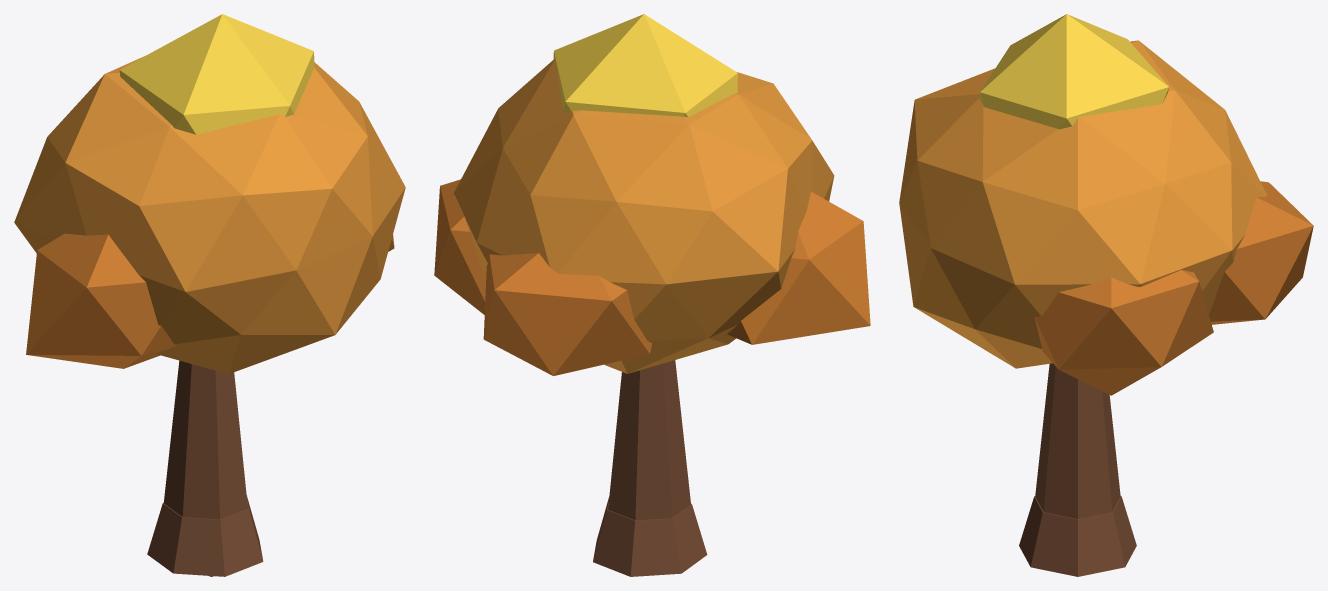
File: Tree_Autumn.fbx
The picture shows the model from 3 angles, left to right: view 1: azimuth 30°, elevation 25°; view 2: azimuth 150°, elevation 25°; view 3: azimuth 270°, elevation 25°; orthographic projection.
Parts seen in each view (by area): view 1: Tree_Autumn; view 2: Tree_Autumn; view 3: Tree_Autumn.
Boxes of the visible parts, box(x1,y1,x2,y2) form: Tree_Autumn: box(14, 14, 405, 576); Tree_Autumn: box(434, 14, 870, 576); Tree_Autumn: box(899, 14, 1313, 576).
Bounding box in the file's own units: 4.14 × 5.49 × 3.72.
